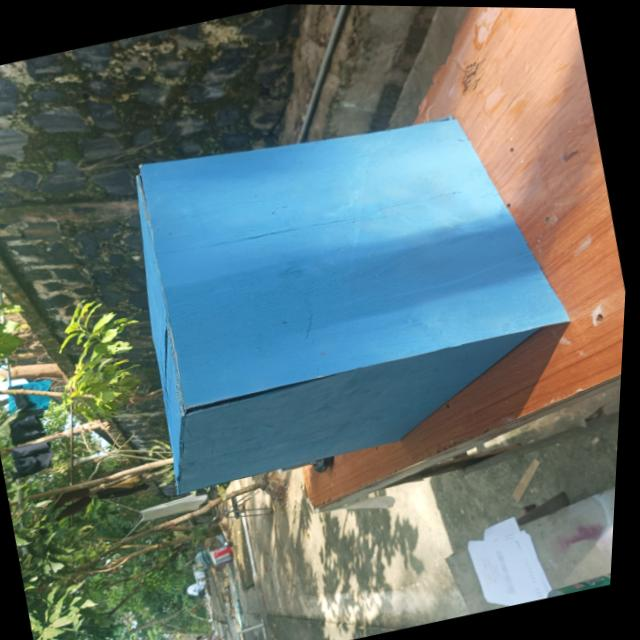blue_box: (45, 46, 631, 557)
